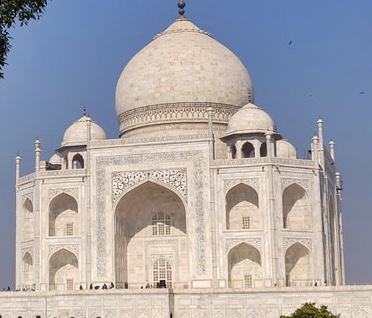Mosque: (6, 6, 355, 286)
